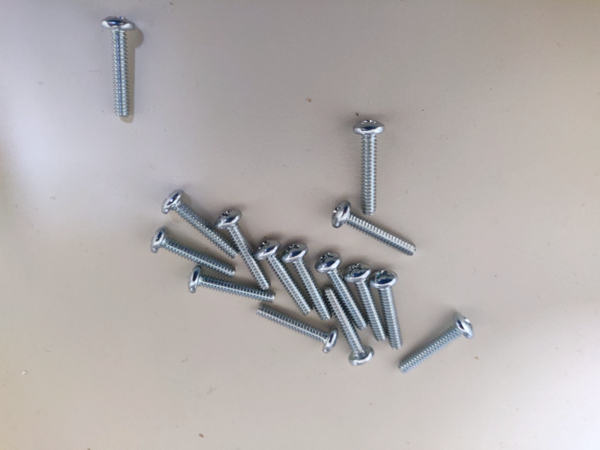longscrew: (161, 189, 238, 261), (397, 319, 475, 376), (152, 230, 239, 281), (333, 205, 417, 257), (253, 304, 334, 356), (316, 252, 368, 331), (217, 215, 271, 290), (256, 240, 310, 314), (324, 289, 372, 372), (284, 240, 332, 323), (185, 269, 277, 309), (355, 115, 389, 219), (102, 16, 134, 118), (347, 264, 385, 344), (374, 270, 410, 351)
